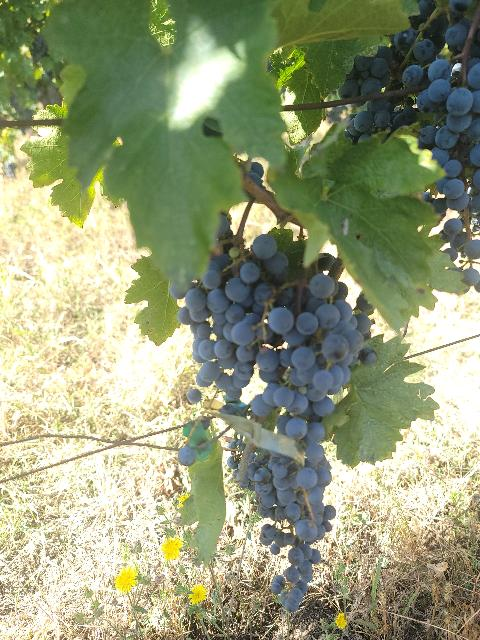grapes: (251, 272, 376, 465), (178, 215, 294, 389), (416, 59, 480, 290), (240, 458, 336, 612)
